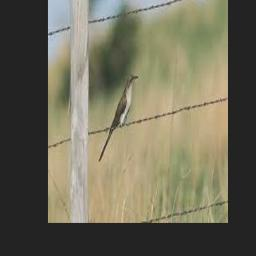Cuckoo: (99, 73, 139, 162)
